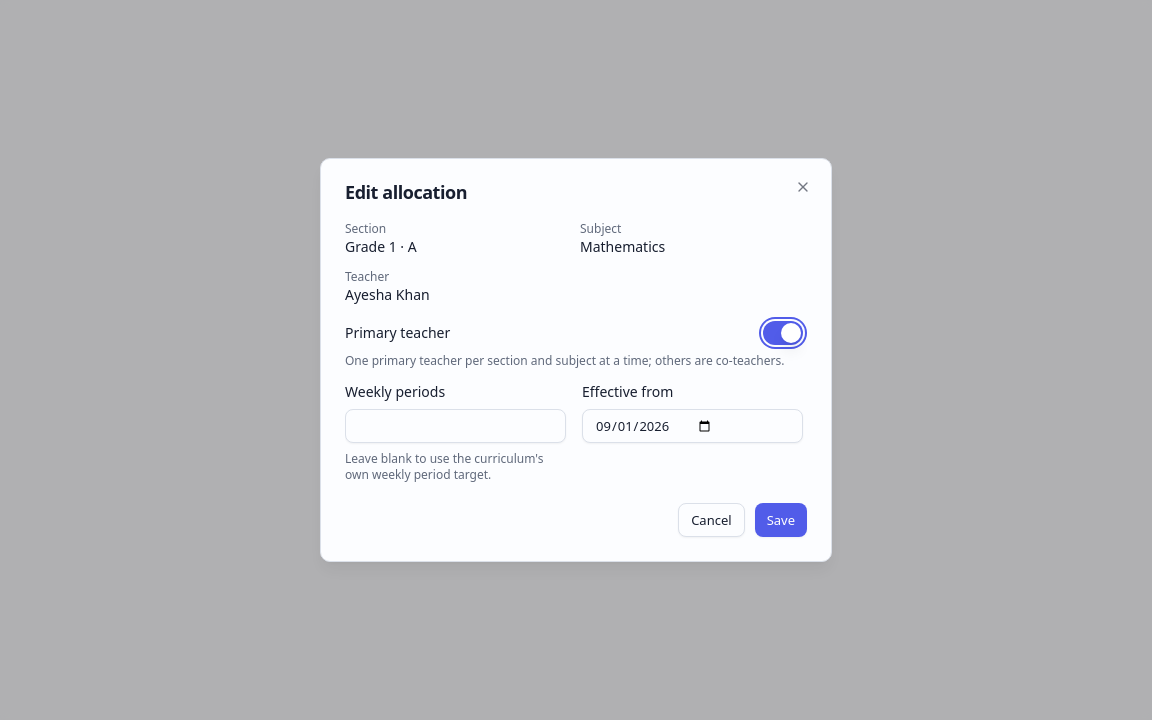
Test case: EditAllocationDialog › when the server refuses › shows the end-before-start refusal under the start date
This screenshot has width=1152, height=720.
Type "2026-09-20" into the date field labelled "Effective from" at (692, 426), box left=582, top=409, right=803, bottom=443
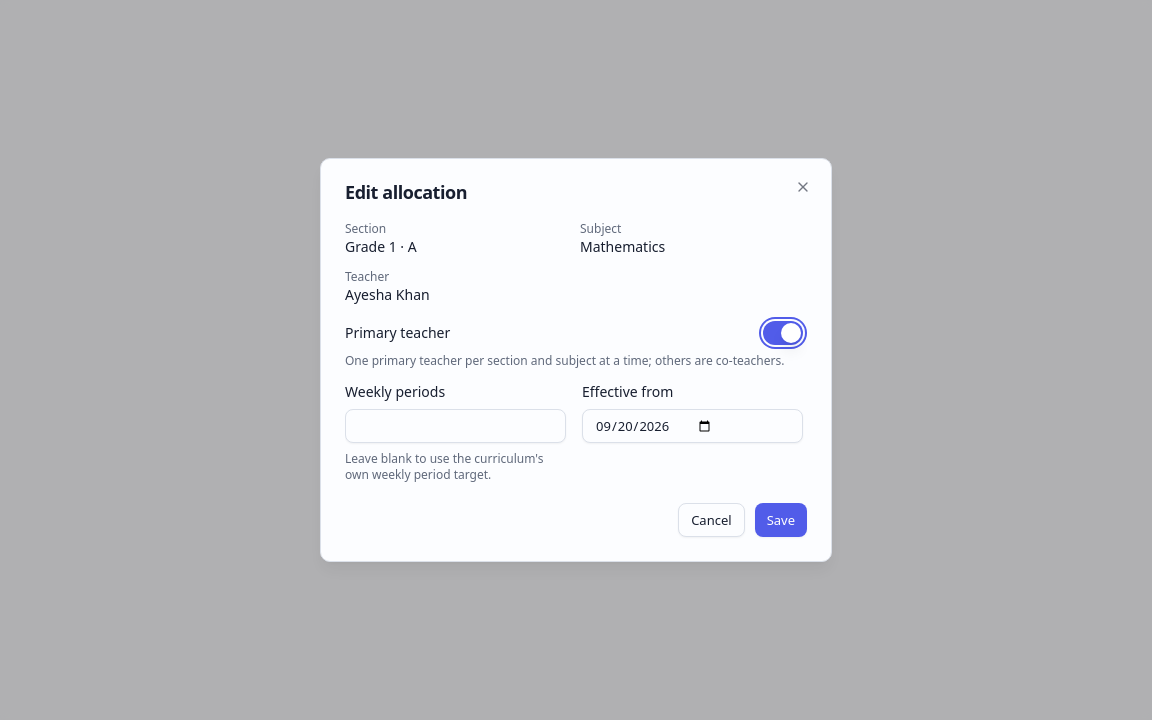
Click the button "Save" at (781, 520), box left=755, top=503, right=807, bottom=537
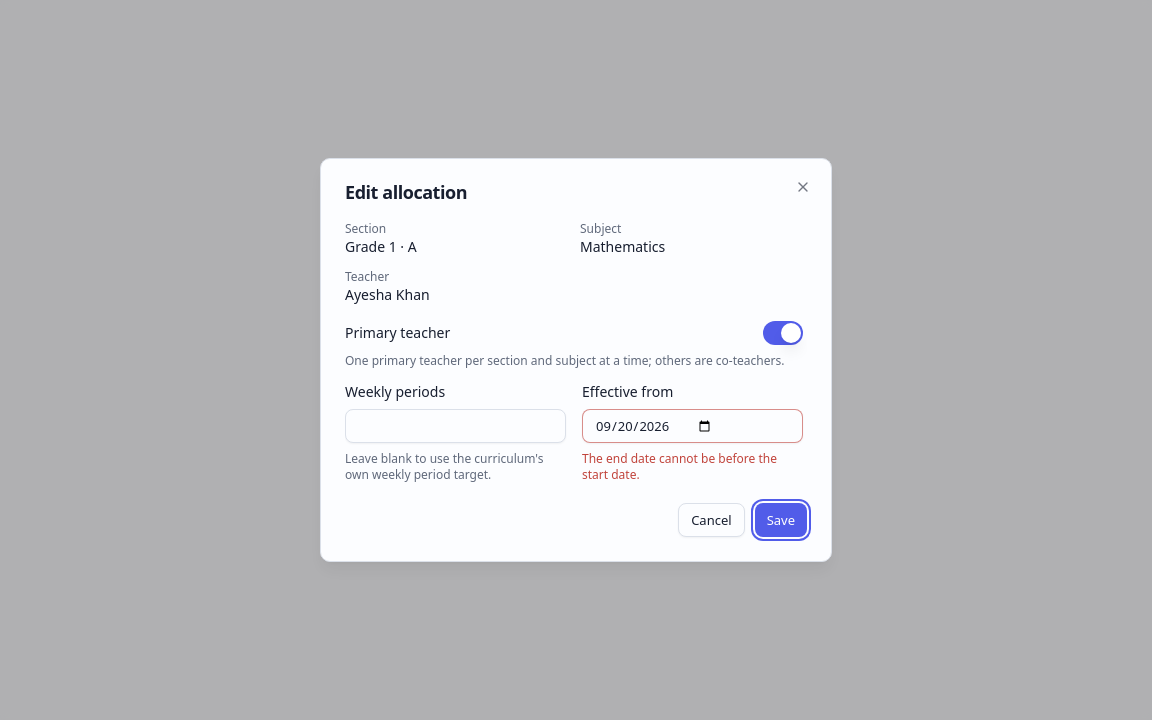
Expected: the text "The end date cannot be before the start date." is shown, left=582, top=451, right=803, bottom=483
